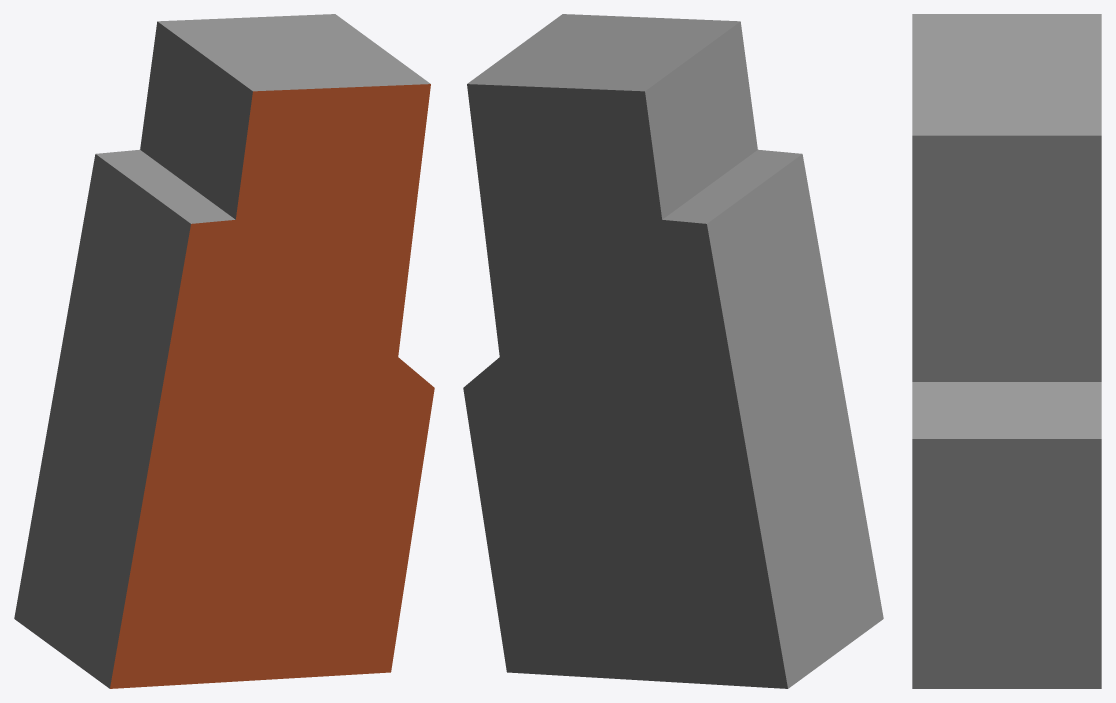
File: construction_0001_assumed_A_Apeadeiro_em_caminho_de_ferro_h6m.obj
3 views of the same model, side by side, from view 1: azimuth 30°, elevation 25°; view 2: azimuth 150°, elevation 25°; view 3: azimuth 270°, elevation 25° (orthographic).
Parts seen in each view (by area): view 1: construction_0001_assumed_A_Apeadeiro_em_caminho_de_ferro; view 2: construction_0001_assumed_A_Apeadeiro_em_caminho_de_ferro; view 3: construction_0001_assumed_A_Apeadeiro_em_caminho_de_ferro.
Boxes of the visible parts, bbox=[...] form: construction_0001_assumed_A_Apeadeiro_em_caminho_de_ferro: bbox=[14, 14, 434, 688]; construction_0001_assumed_A_Apeadeiro_em_caminho_de_ferro: bbox=[463, 14, 883, 688]; construction_0001_assumed_A_Apeadeiro_em_caminho_de_ferro: bbox=[912, 14, 1101, 688].
Size of the model in its own units: 11.76 by 21.26 by 6.
